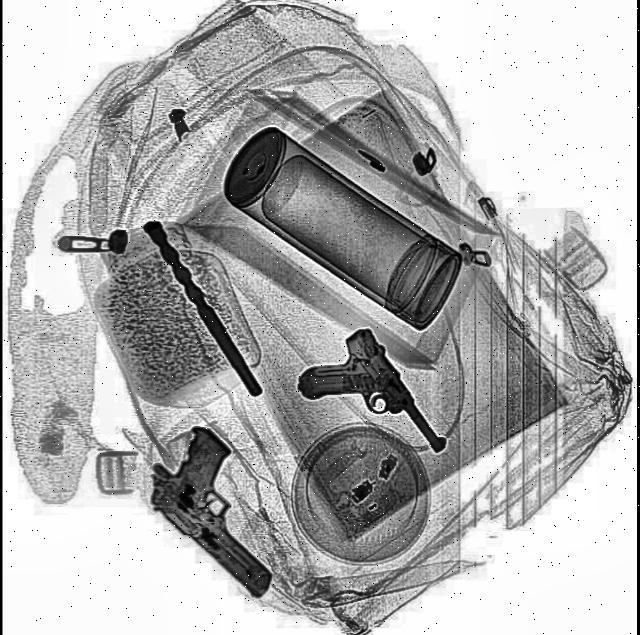Gun: (134, 413, 315, 604), (289, 316, 452, 504)
